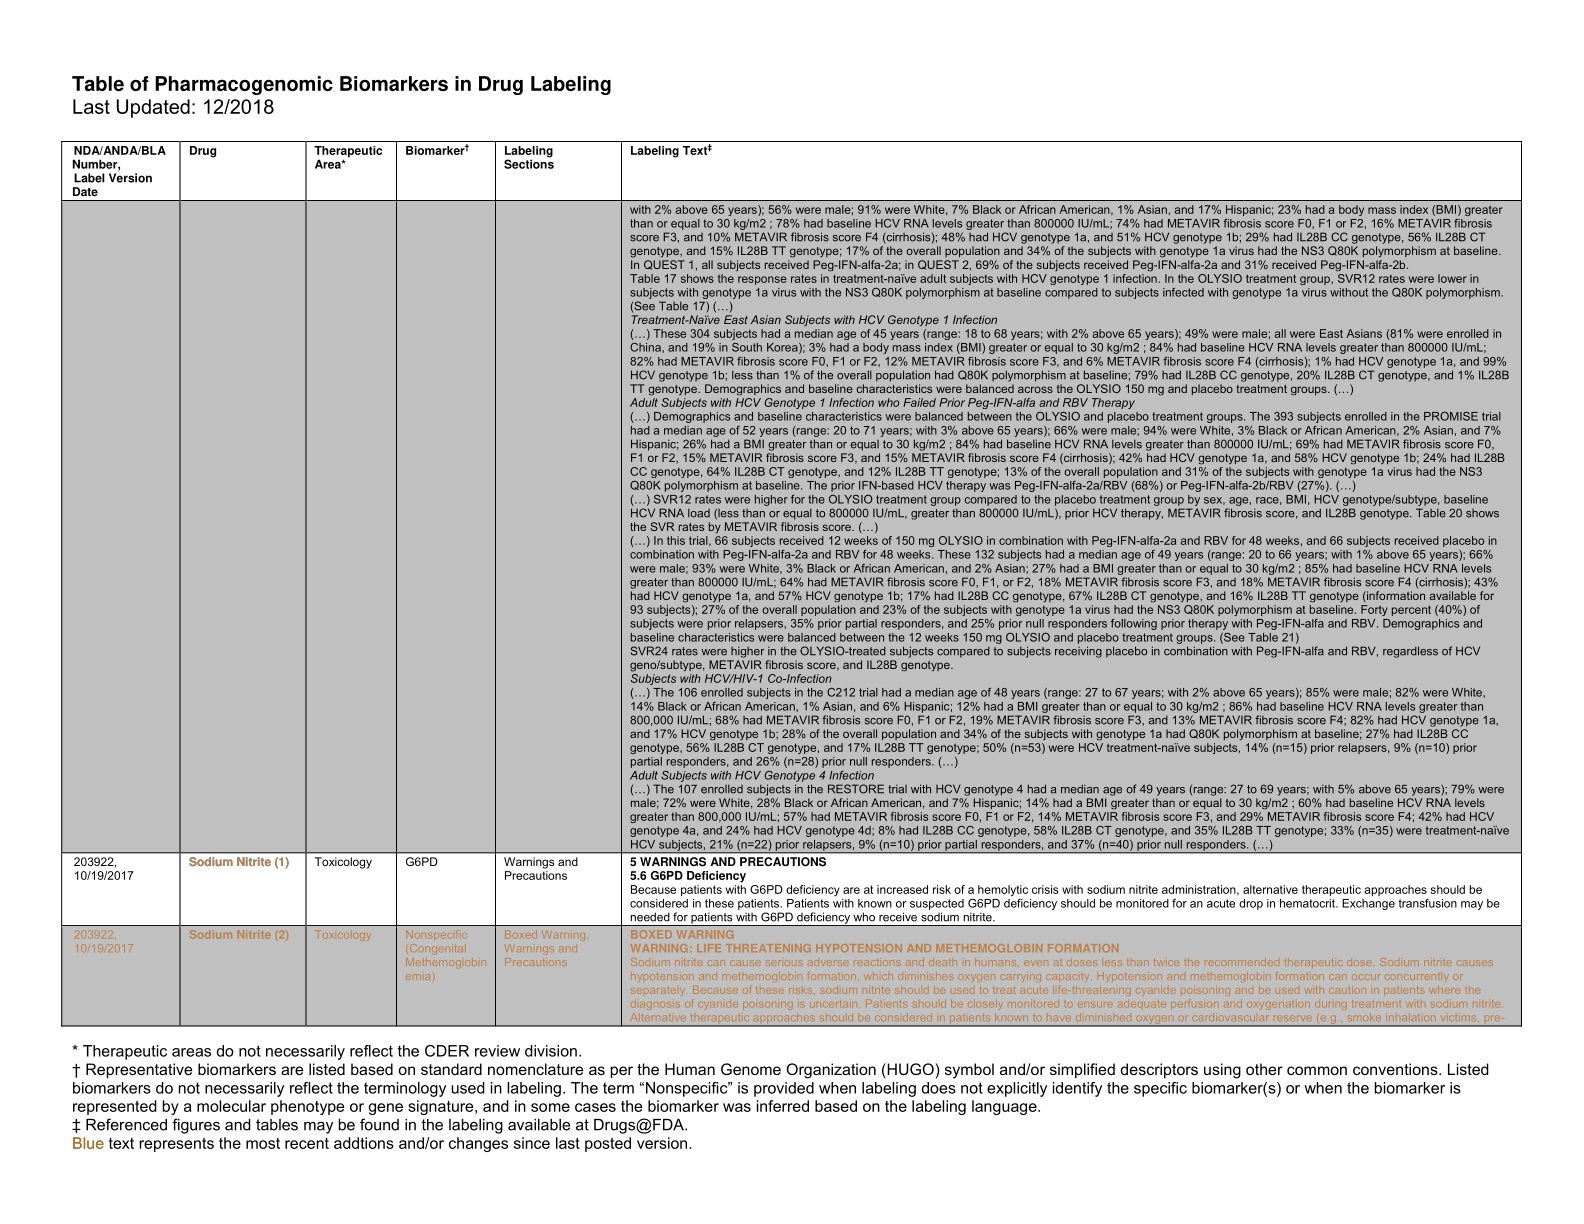full_lined: (53, 136, 1533, 1039)
